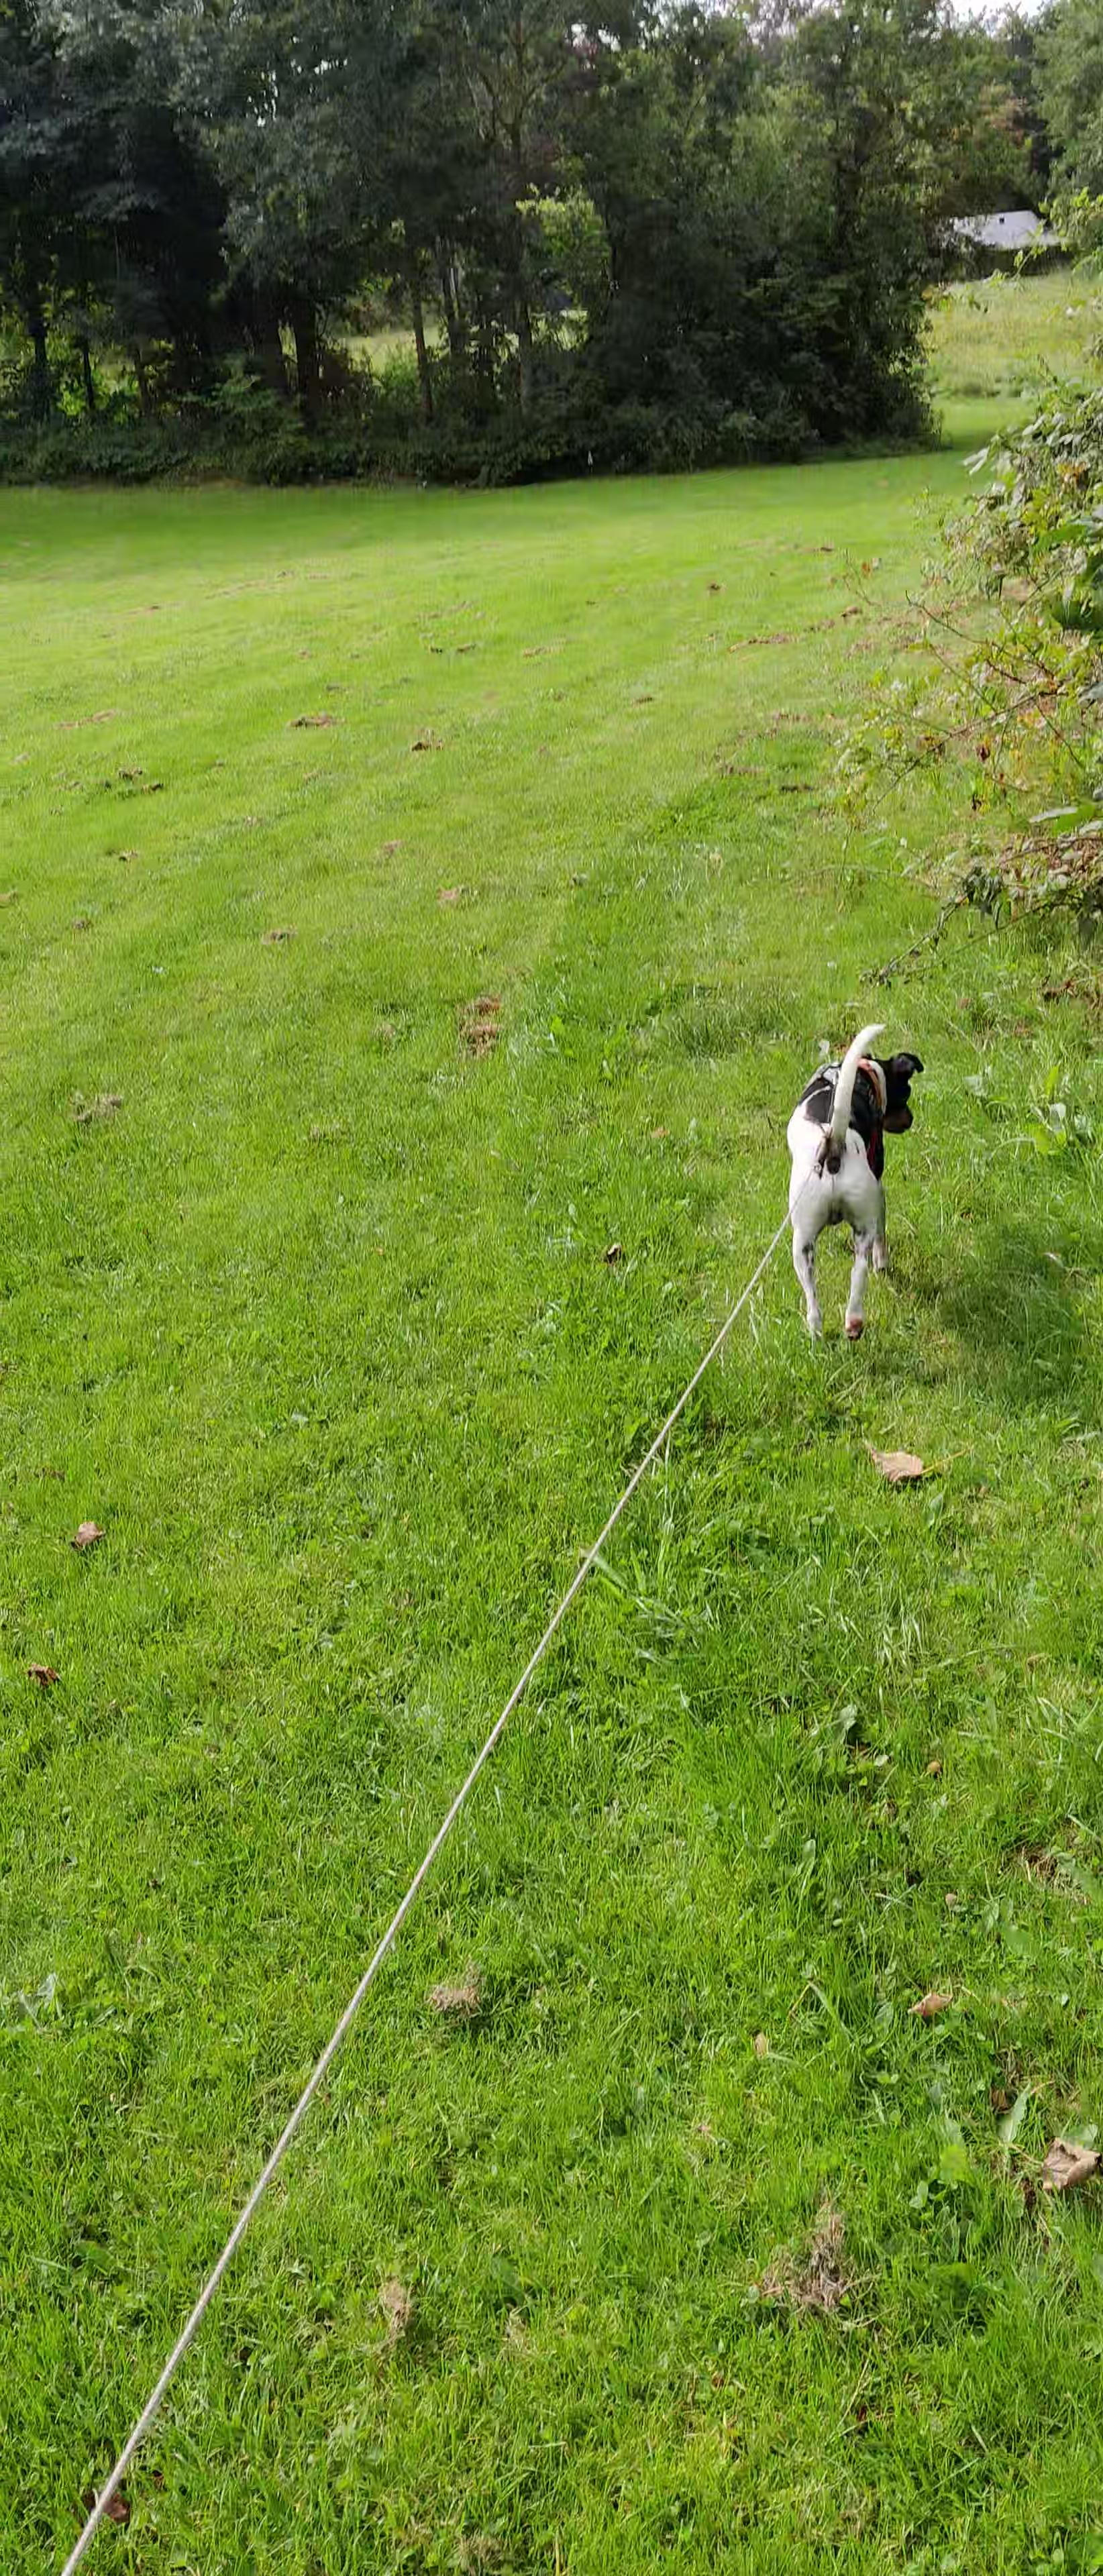Dog: (779, 1020, 929, 1342)
